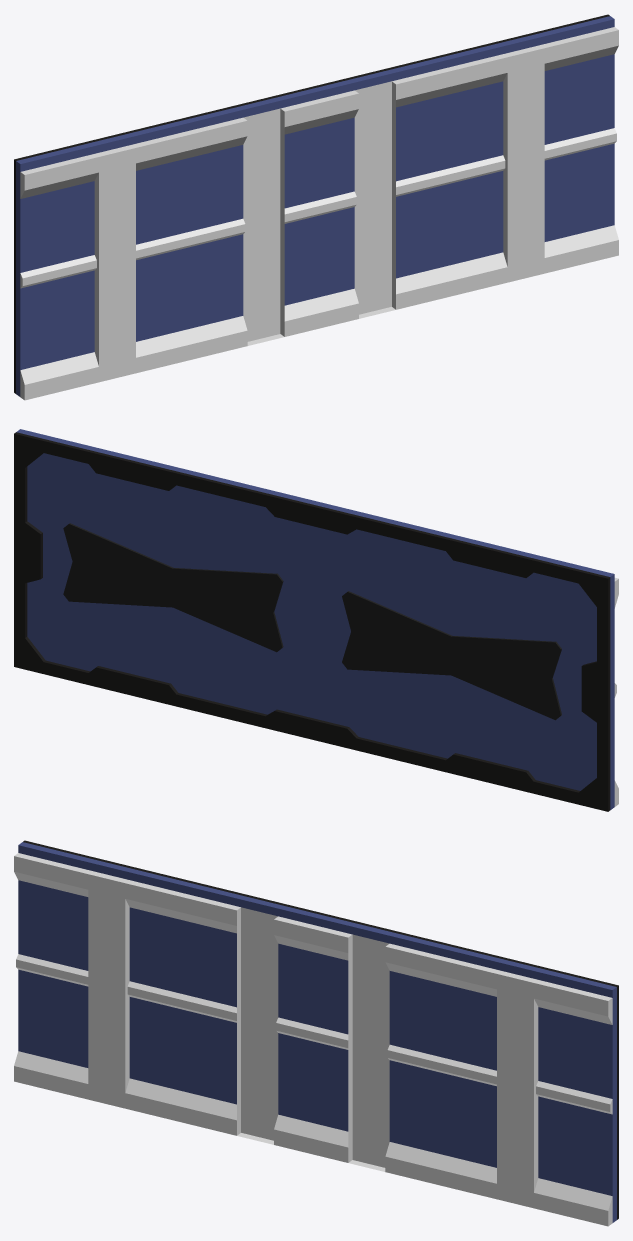
The model's file is Large_Wall_Ex_In.glb.
3 renders of one model, top to bottom at view 1: azimuth 30°, elevation 25°; view 2: azimuth 150°, elevation 25°; view 3: azimuth 330°, elevation 25°, orthographic.
Parts seen in each view (by area): view 1: Large_Wall, Large_Wall_Interior, Middle_Interior_Panel, Large_Exterior_Border; view 2: Large_Wall, Large_Exterior_Border, Large_Exterior_Panel; view 3: Large_Wall, Large_Wall_Interior, Middle_Interior_Panel, Large_Exterior_Border.
Part boxes in pixels (x1,y1,x2,y2): Large_Wall: [16, 16, 614, 396]; Large_Wall_Interior: [20, 27, 618, 400]; Middle_Interior_Panel: [20, 128, 616, 288]; Large_Exterior_Border: [14, 14, 609, 393]; Large_Wall: [16, 429, 614, 809]; Large_Exterior_Border: [14, 432, 610, 811]; Large_Exterior_Panel: [63, 523, 561, 720]; Large_Wall: [18, 842, 616, 1222]; Large_Wall_Interior: [14, 853, 612, 1226]; Middle_Interior_Panel: [16, 954, 612, 1114]; Large_Exterior_Border: [23, 840, 618, 1219].
Size of the model in its own units: 16 by 6 by 0.5.
